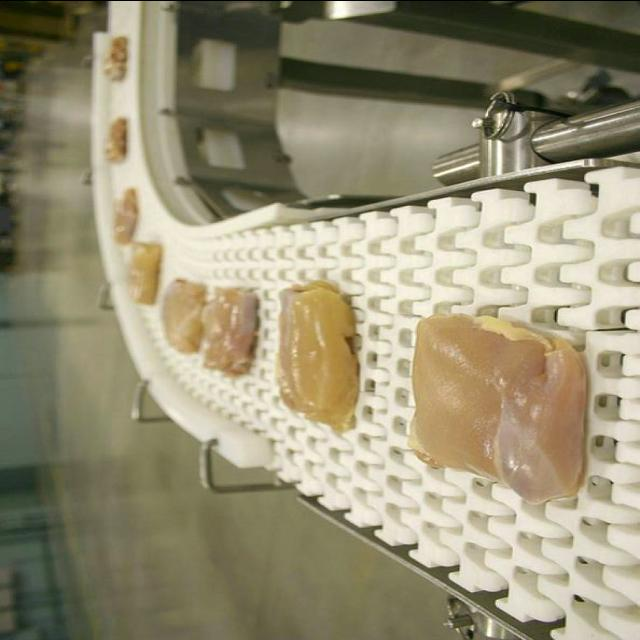food: (405, 312, 588, 506), (271, 280, 368, 436), (196, 280, 266, 376)
